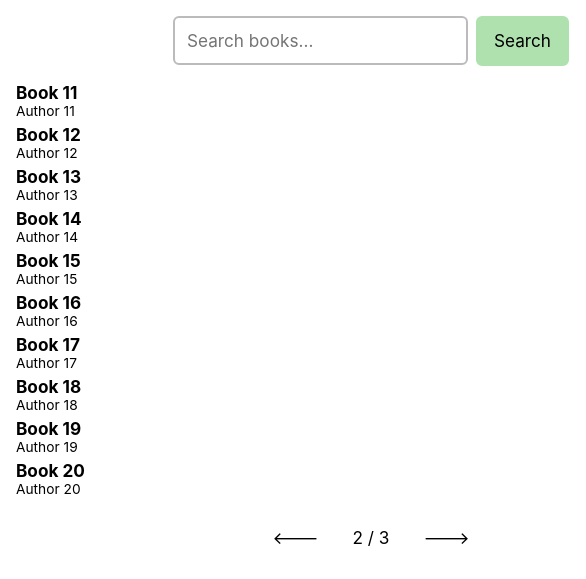
Test: given the user is on the second page of results, when the user clicks the "Previous page" button, it should show the first page of results and the expected pagi
Expected: the text "2 / 3" is shown, 254,512 -> 488,562
Click the 1st button named "Previous page": [295, 537] box 254,512 -> 336,562
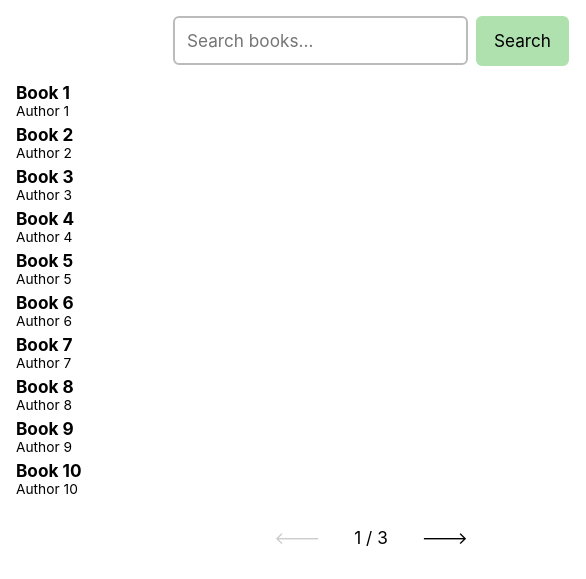
Now the text "Book 2" is shown, box 16,124 -> 73,144
Now the 1st button named "Previous page" is disabled, box 256,512 -> 338,562
Now the text "1 / 3" is shown, box 256,512 -> 486,562
